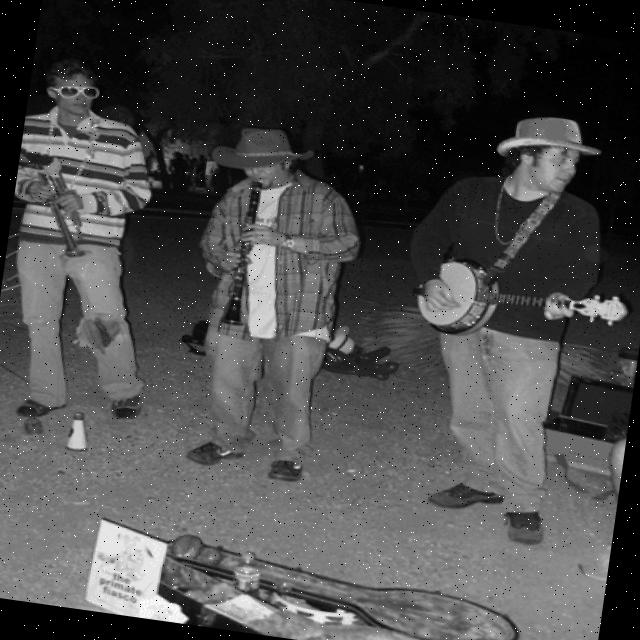clarinet: (216, 177, 270, 331)
